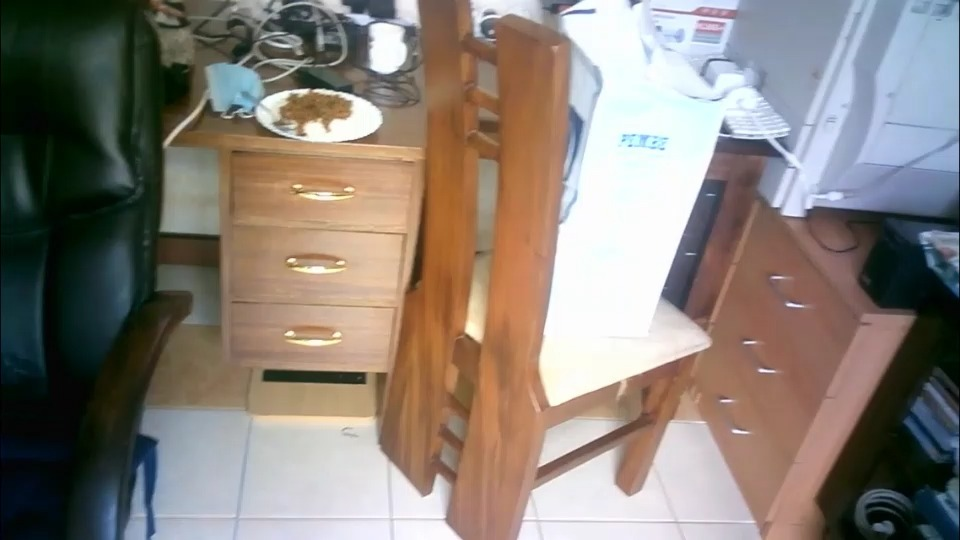wheat_flour_blue_label: (564, 5, 719, 361)
